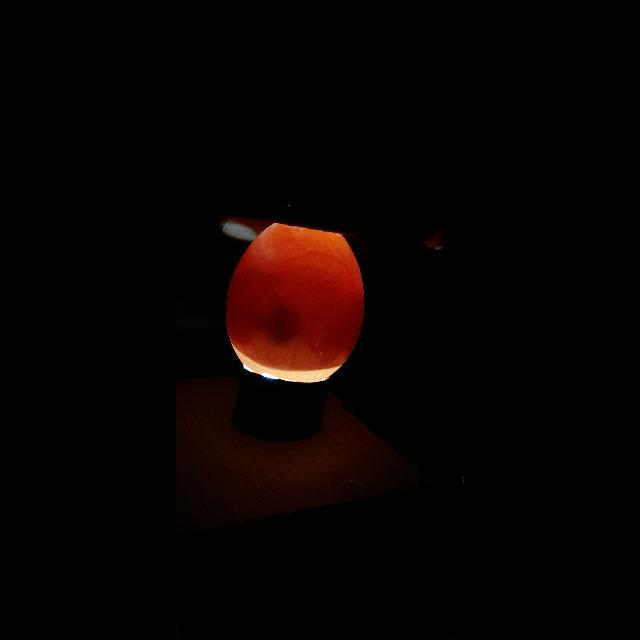Fertile: (223, 225, 369, 388)
